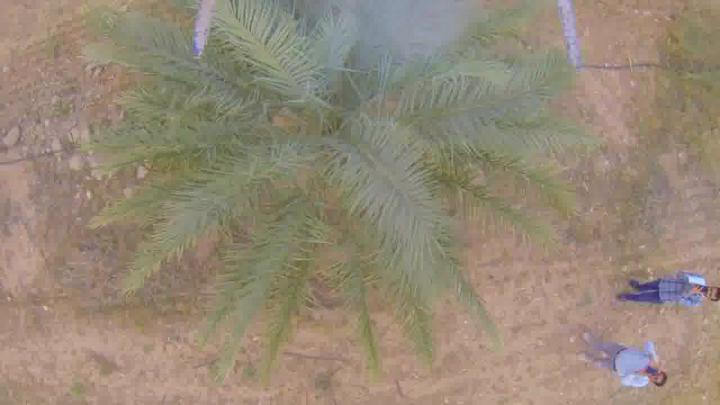Date-Palm-Crown: (207, 0, 468, 280)
